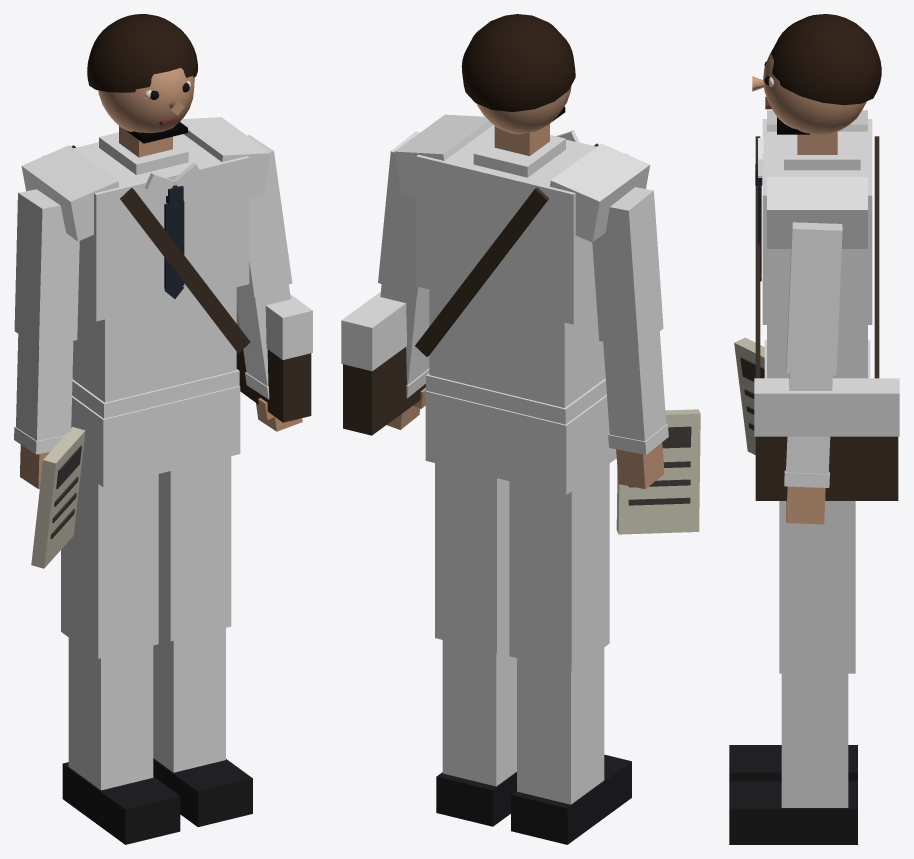
Rendered from NPC_office.fbx.
3 renders of one model, left to right at view 1: azimuth 30°, elevation 25°; view 2: azimuth 150°, elevation 25°; view 3: azimuth 270°, elevation 25°, orthographic. The views are drawn at different scales.
Visible parts, largest first — view 1: Body_Cloth_26282d, Body_Cloth_a9aca9, Arm_R_Cloth_a9aca9, Body_Shoe.008, Arm_L_Cloth_a9aca9, Body_Mat_3a2d22, Head_Hair.010, Prop_Newspaper_Newspaper, Head_Skin.010, Body_Cloth_2c2219, Body_Mat_1f2531, Prop_Newspaper_Mat_3b3a37 (+5 smaller); view 2: Body_Cloth_26282d, Body_Cloth_a9aca9, Arm_R_Cloth_a9aca9, Head_Hair.010, Body_Shoe.008, Body_Mat_3a2d22, Arm_L_Cloth_a9aca9, Prop_Newspaper_Newspaper, Body_Cloth_2c2219, Head_Skin.010, Arm_R_Skin.003, Prop_Newspaper_Mat_3b3a37 (+2 smaller); view 3: Body_Cloth_26282d, Body_Cloth_a9aca9, Arm_L_Cloth_a9aca9, Body_Mat_3a2d22, Body_Shoe.008, Body_Cloth_2c2219, Head_Hair.010, Head_Skin.010, Arm_L_Skin.004, Prop_Newspaper_Newspaper, Body_Skin.010, Arm_L_Cloth_8d908e (+2 smaller).
Part boxes in pixels (x1,y1,x2,y2): Body_Cloth_26282d: [61, 369, 240, 790]; Body_Cloth_a9aca9: [21, 117, 270, 402]; Arm_R_Cloth_a9aca9: [14, 189, 79, 440]; Body_Shoe.008: [62, 758, 252, 844]; Arm_L_Cloth_a9aca9: [236, 135, 292, 386]; Body_Mat_3a2d22: [71, 145, 311, 422]; Head_Hair.010: [87, 14, 197, 92]; Prop_Newspaper_Newspaper: [31, 427, 85, 568]; Head_Skin.010: [98, 68, 194, 133]; Body_Cloth_2c2219: [236, 294, 312, 359]; Body_Mat_1f2531: [164, 185, 184, 298]; Prop_Newspaper_Mat_3b3a37: [50, 445, 81, 539]; Body_Cloth_26282d: [425, 373, 616, 804]; Body_Cloth_a9aca9: [394, 114, 650, 407]; Arm_R_Cloth_a9aca9: [592, 187, 666, 441]; Head_Hair.010: [461, 14, 575, 111]; Body_Shoe.008: [436, 754, 631, 844]; Body_Mat_3a2d22: [343, 143, 598, 435]; Arm_L_Cloth_a9aca9: [378, 131, 429, 385]; Prop_Newspaper_Newspaper: [616, 409, 700, 534]; Body_Cloth_2c2219: [341, 291, 406, 371]; Head_Skin.010: [477, 86, 571, 134]; Arm_R_Skin.003: [616, 442, 664, 488]; Prop_Newspaper_Mat_3b3a37: [628, 426, 691, 505]; Body_Cloth_26282d: [764, 340, 870, 807]; Body_Cloth_a9aca9: [762, 110, 872, 378]; Arm_L_Cloth_a9aca9: [786, 222, 842, 473]; Body_Mat_3a2d22: [755, 136, 898, 500]; Body_Shoe.008: [729, 745, 857, 844]; Body_Cloth_2c2219: [754, 378, 899, 436]; Head_Hair.010: [771, 14, 881, 105]; Head_Skin.010: [752, 49, 866, 135]; Arm_L_Skin.004: [786, 486, 825, 524]; Prop_Newspaper_Newspaper: [734, 337, 764, 454]; Body_Skin.010: [797, 131, 837, 154]; Arm_L_Cloth_8d908e: [784, 470, 829, 487].
Bounding box in the file's own units: 0.7089 × 1.84 × 0.3575.
